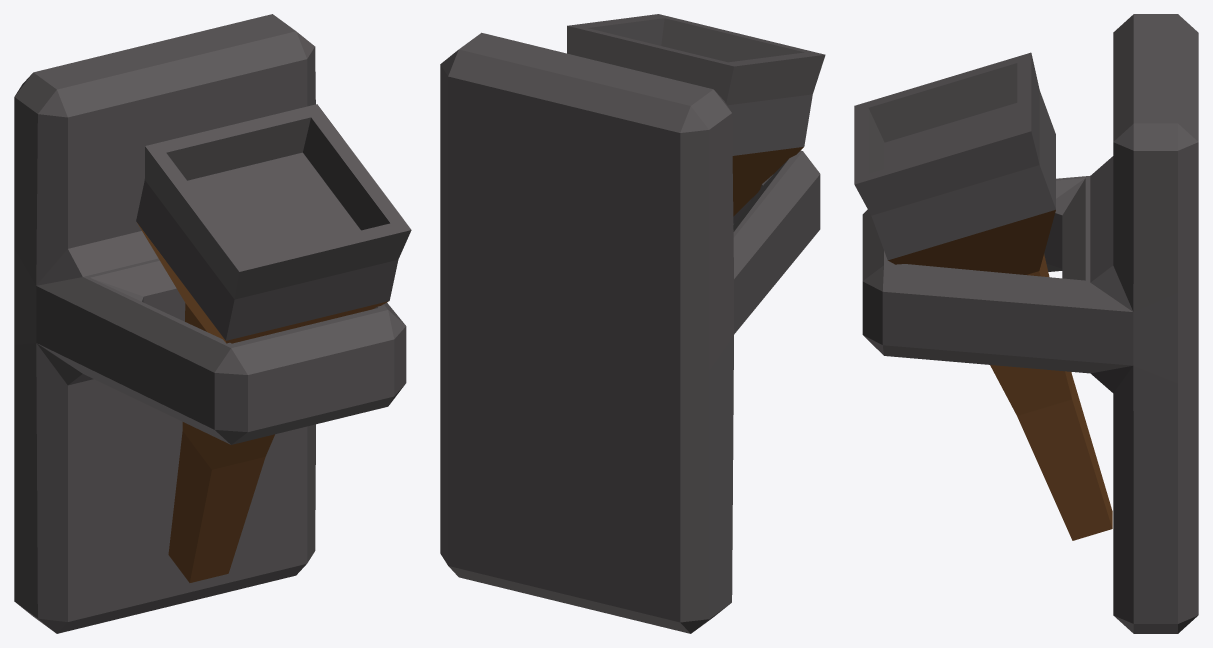
File: torch.fbx
The picture shows the model from 3 angles, left to right: view 1: azimuth 30°, elevation 25°; view 2: azimuth 150°, elevation 25°; view 3: azimuth 270°, elevation 25°; orthographic projection. The views are drawn at different scales.
Visible parts, largest first — view 1: Cube, Cube.001; view 2: Cube, Cube.001; view 3: Cube, Cube.001.
Boxes of the visible parts, left/top/right/bottom form: Cube: left=14, top=14, right=406, bottom=633; Cube.001: left=136, top=104, right=411, bottom=582; Cube: left=440, top=32, right=820, bottom=633; Cube.001: left=567, top=14, right=825, bottom=216; Cube: left=862, top=14, right=1198, bottom=633; Cube.001: left=854, top=52, right=1112, bottom=540.
Size of the model in its own units: 20.26 by 37.52 by 22.92.
